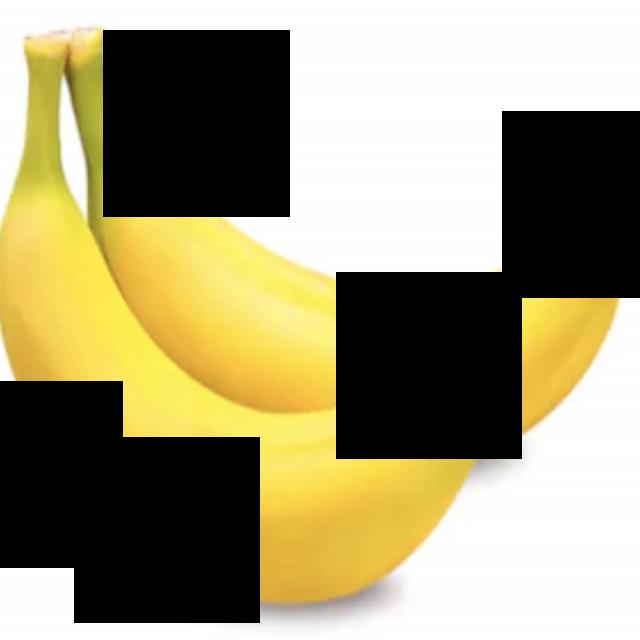banana: (7, 40, 543, 638)
